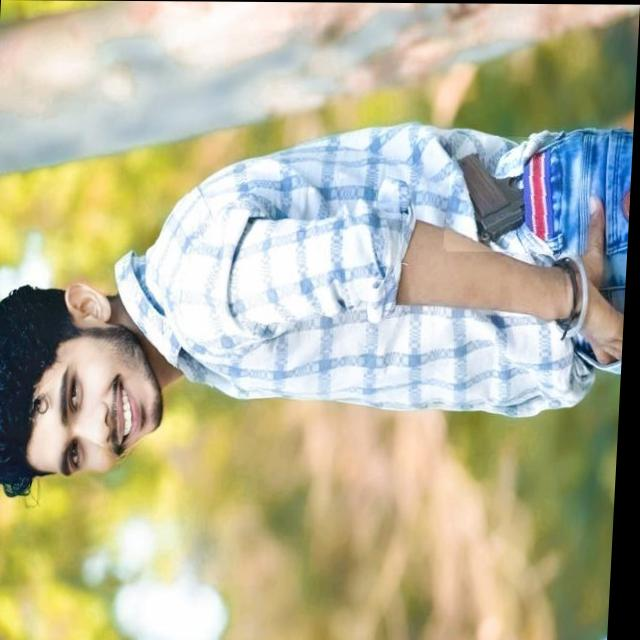handgun: (446, 134, 584, 253)
